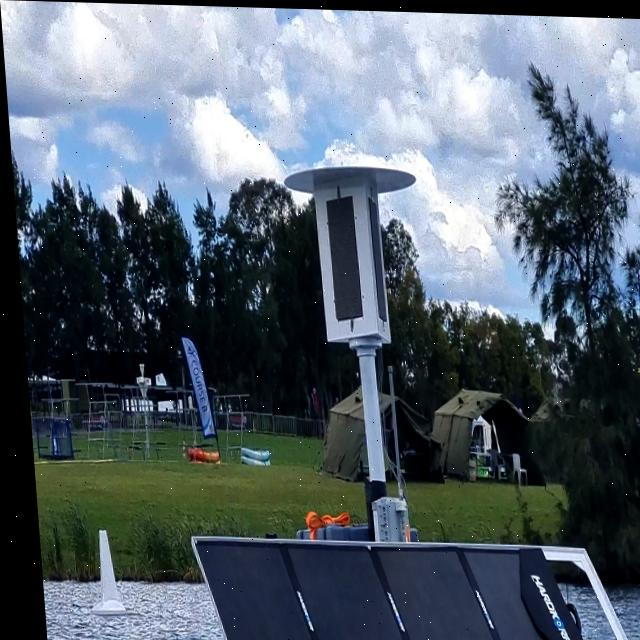led: (317, 182, 366, 327)
